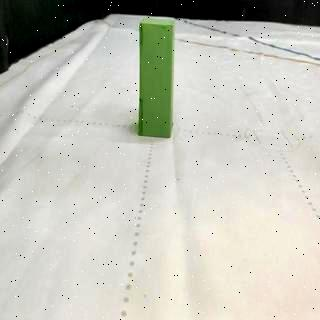greenbox: (138, 14, 174, 139)
